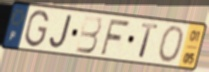B: (74, 14, 103, 55)
F: (99, 18, 132, 57)
G: (23, 9, 50, 49)
J: (48, 14, 74, 50)
O: (156, 24, 185, 65)
T: (137, 22, 160, 61)
